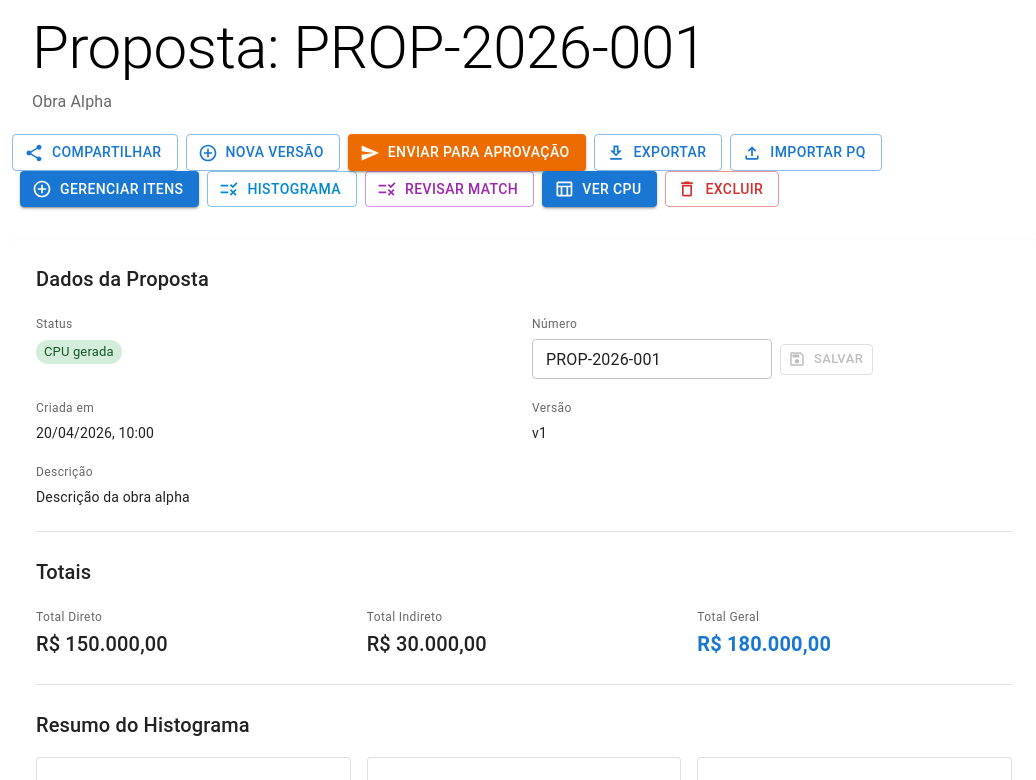
ProposalDetailPage › ExportMenu abre com 2 opcoes (Excel, PDF)
The width and height of the screenshot is (1036, 780).
Expected: the heading "Proposta: PROP-2026-001" is shown, [32,12,707,84]
Click the button "Exportar" at (658, 153), box [594,134,722,171]
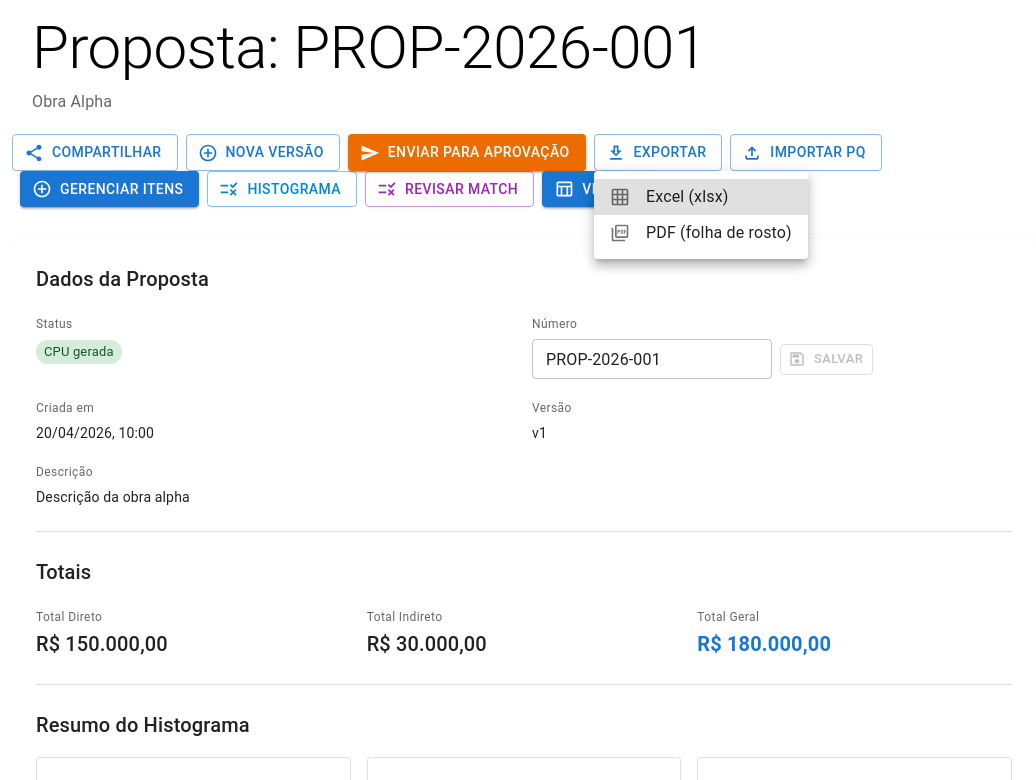
Expected: the text "Excel (xlsx)" is shown, [646,187,728,206]
Expected: the text "PDF (folha de rosto)" is shown, [646,221,792,245]
